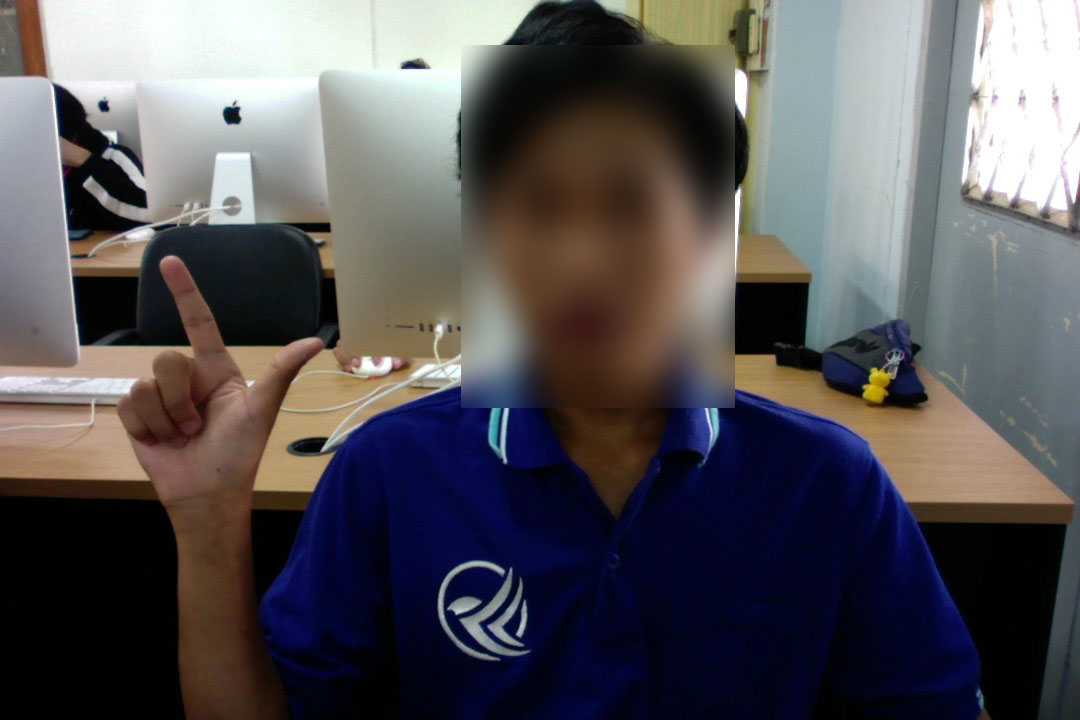lor: (84, 257, 347, 536)
